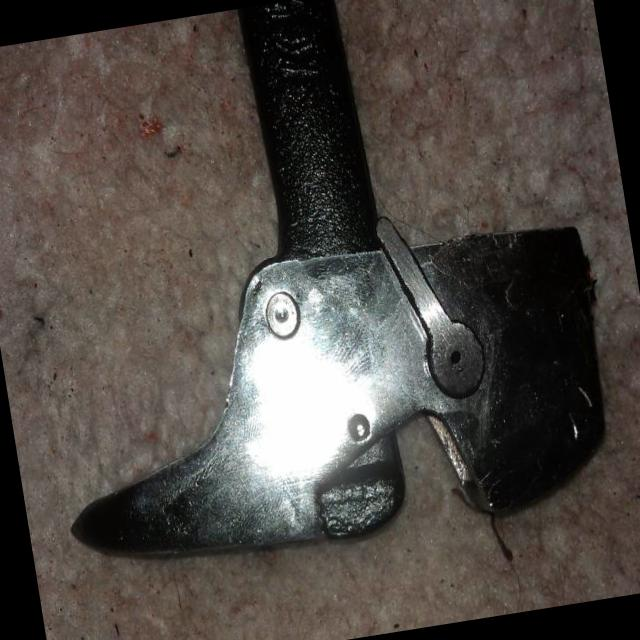Axe: (71, 0, 607, 560)
